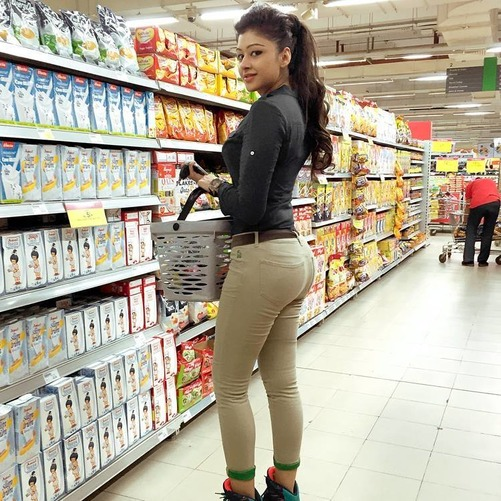Age_20_30: (231, 6, 300, 93)
E_Indian: (231, 6, 300, 93)
Emotion_Happy: (231, 6, 300, 93)
G_ Female: (231, 6, 300, 93)
